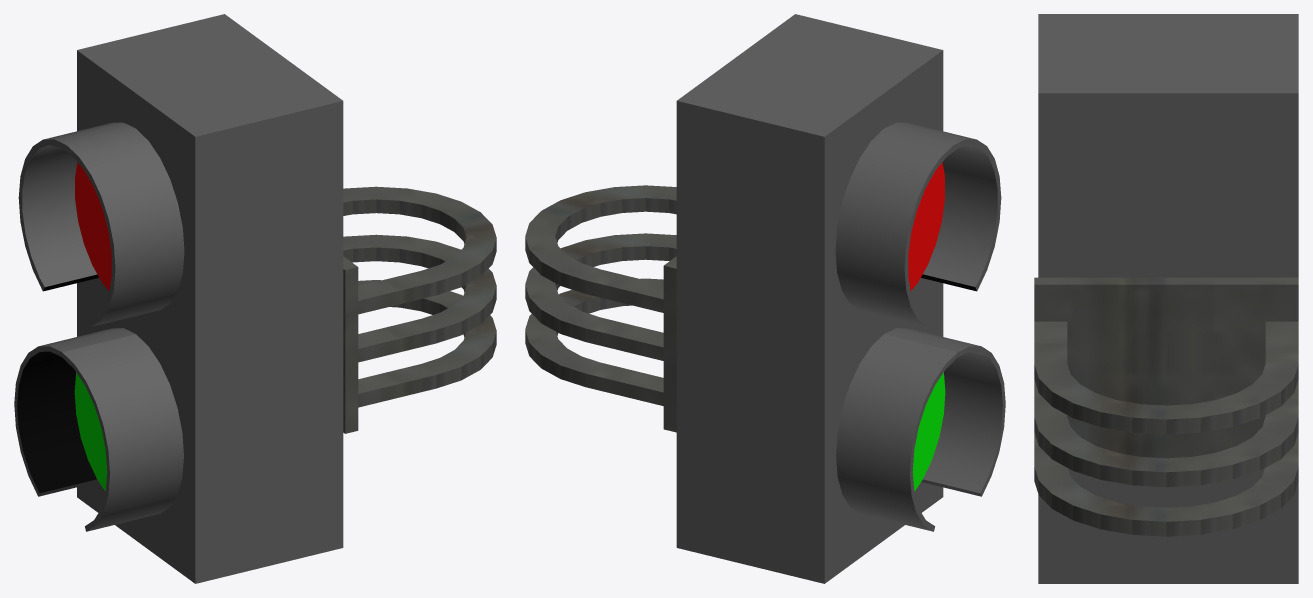
The model's file is semaforo.glb.
3 views of the same model, side by side, from view 1: azimuth 30°, elevation 25°; view 2: azimuth 150°, elevation 25°; view 3: azimuth 270°, elevation 25° (orthographic). The views are drawn at different scales.
Visible parts, largest first — view 1: Componente_29_1, Al_a1, Al_a3, Al_a2, Componente_1_1; view 2: Componente_29_1, Al_a1, Al_a3, Al_a2, Componente_1_1; view 3: Componente_29_1, Componente_1_1, Al_a1, Al_a3, Al_a2.
Part boxes in pixels (bbox=[...]): Componente_29_1: bbox=[14, 14, 343, 583]; Al_a1: bbox=[343, 186, 496, 314]; Al_a3: bbox=[343, 234, 496, 362]; Al_a2: bbox=[358, 280, 496, 407]; Componente_1_1: bbox=[343, 256, 358, 433]; Componente_29_1: bbox=[676, 14, 1005, 583]; Al_a1: bbox=[525, 185, 676, 312]; Al_a3: bbox=[525, 233, 676, 360]; Al_a2: bbox=[525, 278, 663, 405]; Componente_1_1: bbox=[663, 256, 676, 432]; Componente_29_1: bbox=[1038, 14, 1298, 583]; Componente_1_1: bbox=[1034, 277, 1298, 458]; Al_a1: bbox=[1034, 321, 1298, 434]; Al_a3: bbox=[1034, 379, 1298, 487]; Al_a2: bbox=[1034, 432, 1298, 536].
Bounding box in the file's own units: 0.3201 × 0.3276 × 0.16.
Materials: 6 (1 with a texture image).
